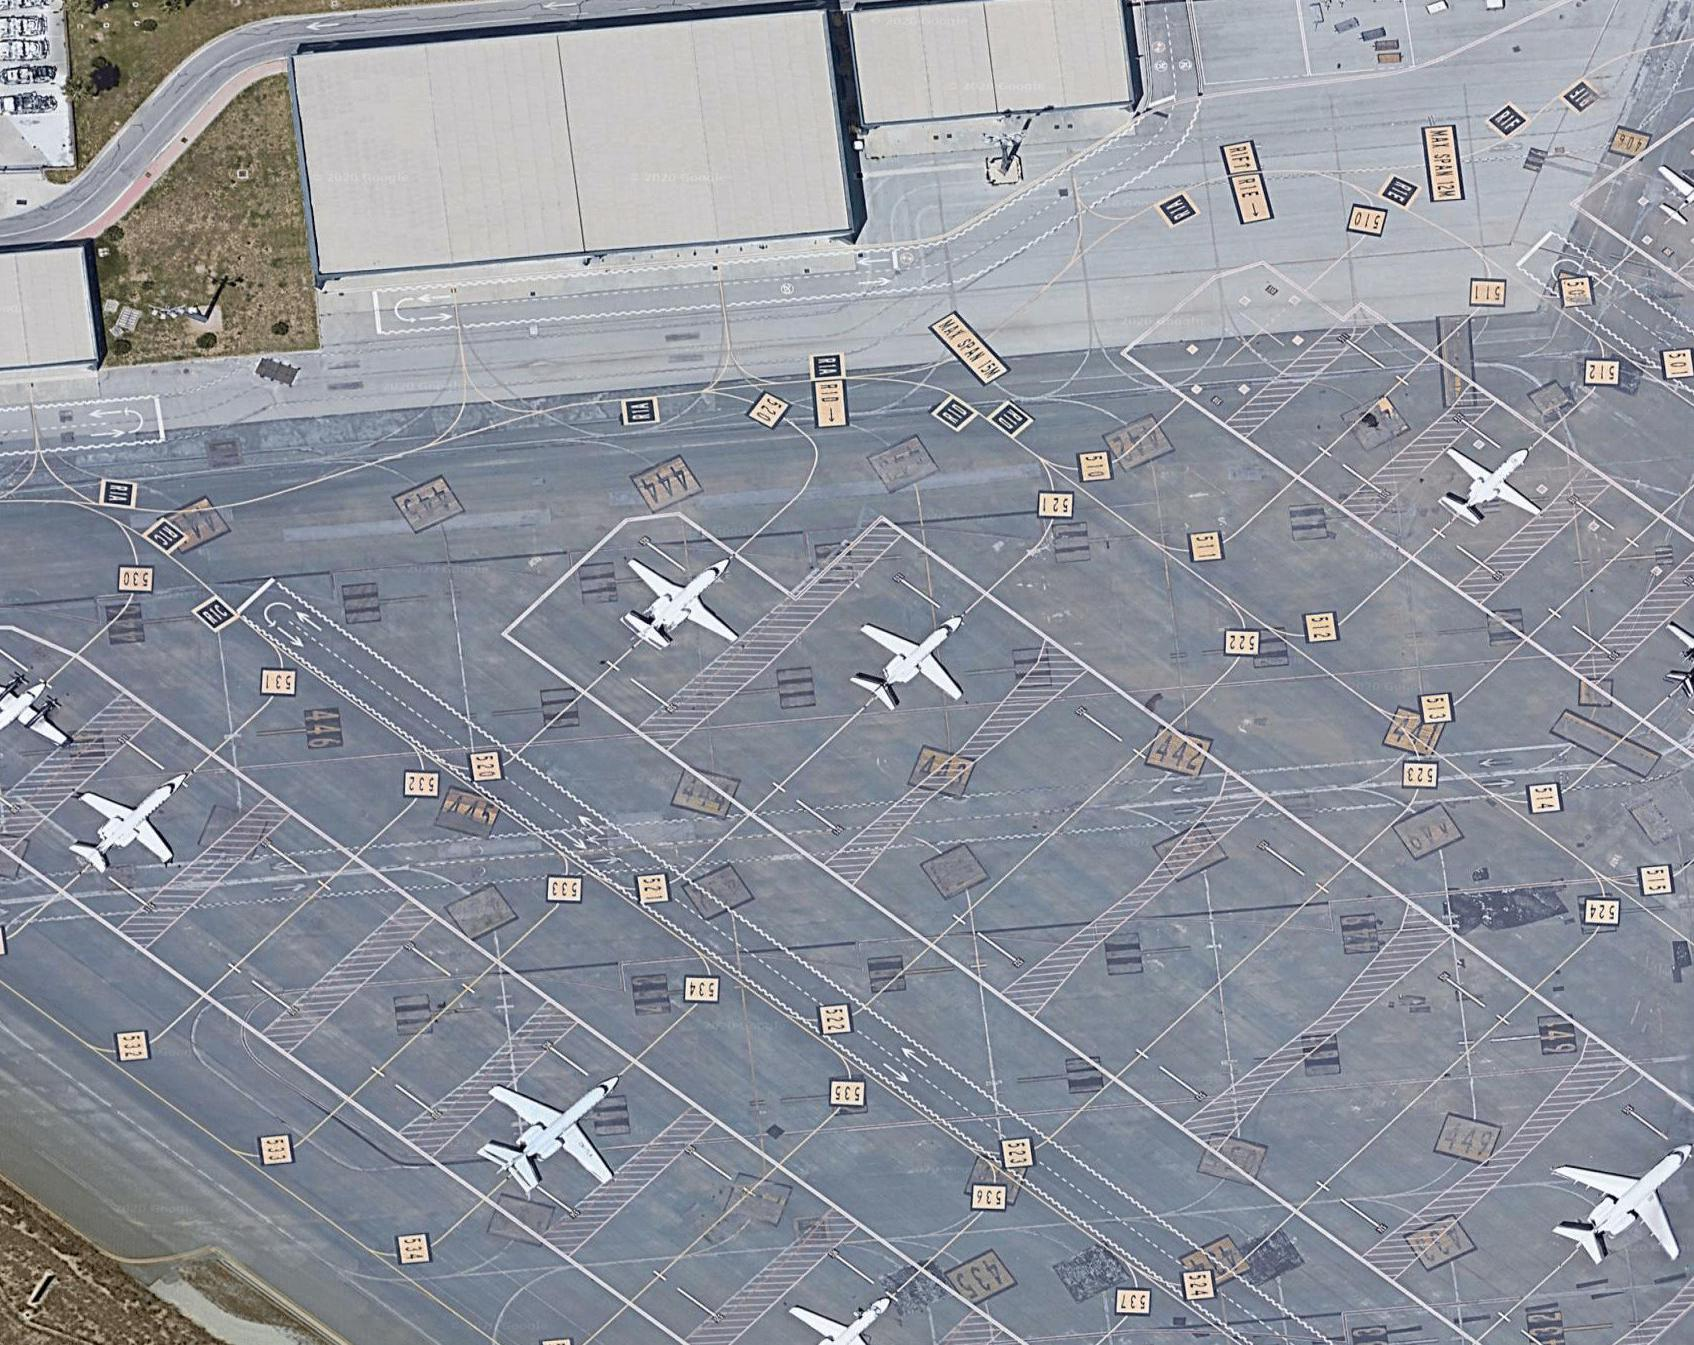plane: (1506, 1085, 1694, 1316), (448, 1029, 659, 1228), (828, 565, 1004, 745), (593, 514, 767, 695), (49, 745, 220, 904), (1411, 413, 1563, 560), (747, 1283, 947, 1345), (1, 642, 78, 770), (1653, 135, 1694, 241)
